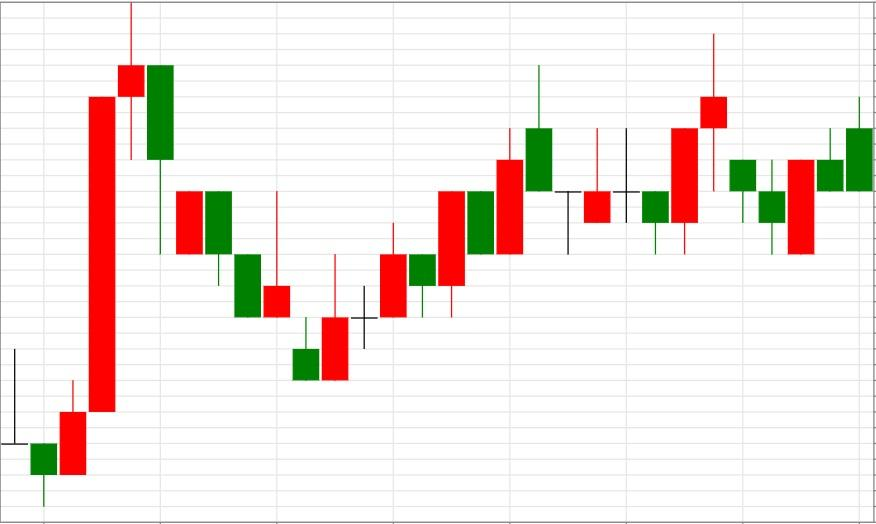bullish_engulfing_rise: (116, 0, 349, 382), (699, 33, 815, 255)
